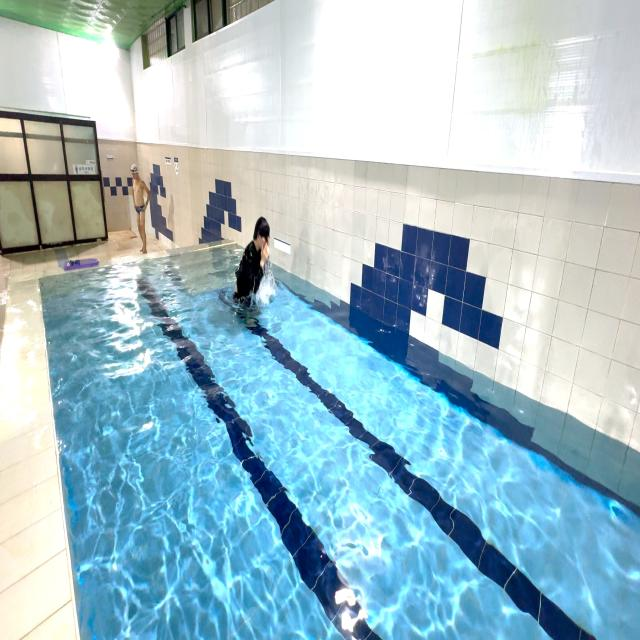Swimming: (231, 213, 280, 311)
